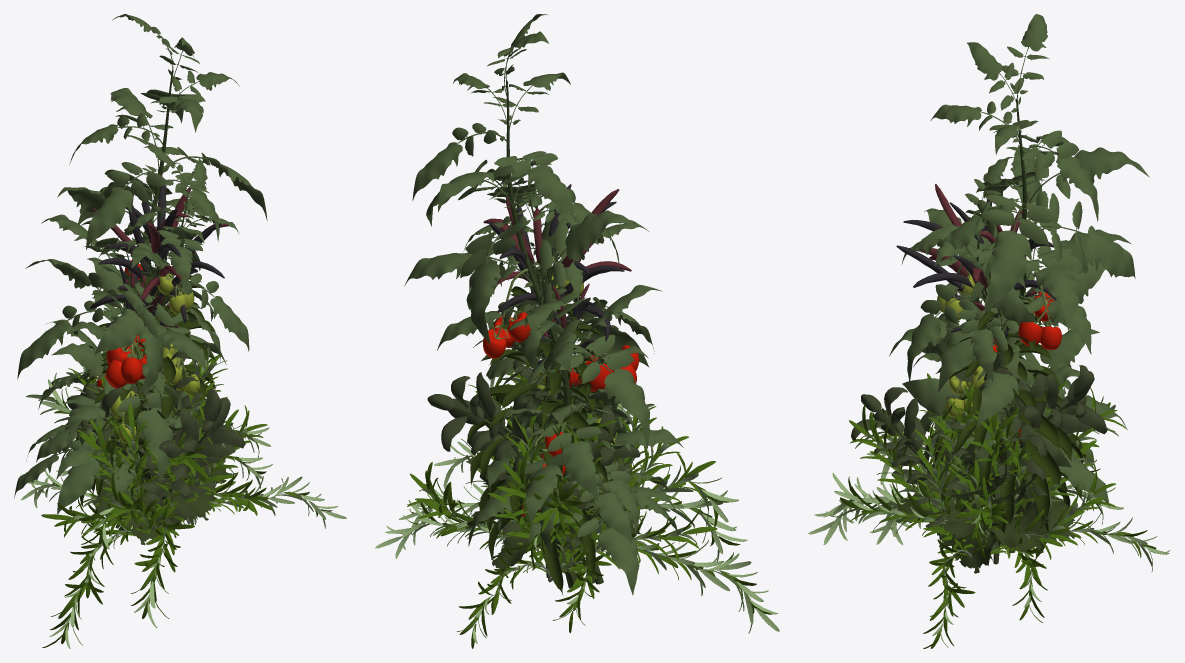
File: ripe_pepper_t.glb
The picture shows the model from 3 angles, left to right: view 1: azimuth 30°, elevation 25°; view 2: azimuth 150°, elevation 25°; view 3: azimuth 270°, elevation 25°; orthographic projection. The views are drawn at different scales.
Parts seen in each view (by area): view 1: TOMATO 18092019 2, rosemary 021023 1, TOMATO 18092019 2.001, basil 13032021 008, Red pepper 24092019 2, Lettuce 13032019 006, Red pepper 24092019 5; view 2: TOMATO 18092019 2, rosemary 021023 1, TOMATO 18092019 2.001, Red pepper 24092019 2, basil 13032021 008, Red pepper 24092019 5, Lettuce 13032019 006; view 3: TOMATO 18092019 2, rosemary 021023 1, TOMATO 18092019 2.001, Red pepper 24092019 2, basil 13032021 008, Lettuce 13032019 006.
Part boxes in pixels (x1,y1,x2,y2): TOMATO 18092019 2: [14, 14, 267, 524]; rosemary 021023 1: [21, 345, 346, 648]; TOMATO 18092019 2.001: [26, 144, 249, 528]; basil 13032021 008: [67, 298, 244, 525]; Red pepper 24092019 2: [73, 179, 229, 530]; Lettuce 13032019 006: [91, 394, 236, 545]; Red pepper 24092019 5: [77, 258, 182, 506]; TOMATO 18092019 2: [404, 14, 683, 595]; rosemary 021023 1: [375, 343, 779, 648]; TOMATO 18092019 2.001: [463, 159, 674, 583]; Red pepper 24092019 2: [466, 184, 631, 594]; basil 13032021 008: [427, 352, 640, 577]; Red pepper 24092019 5: [517, 283, 626, 585]; Lettuce 13032019 006: [460, 411, 642, 586]; TOMATO 18092019 2: [902, 14, 1149, 547]; rosemary 021023 1: [808, 373, 1170, 648]; TOMATO 18092019 2.001: [889, 157, 1096, 523]; Red pepper 24092019 2: [896, 184, 1085, 559]; basil 13032021 008: [851, 357, 1106, 564]; Lettuce 13032019 006: [896, 417, 1074, 573].
Size of the model in its own units: 0.5659 by 0.9425 by 0.5189.
